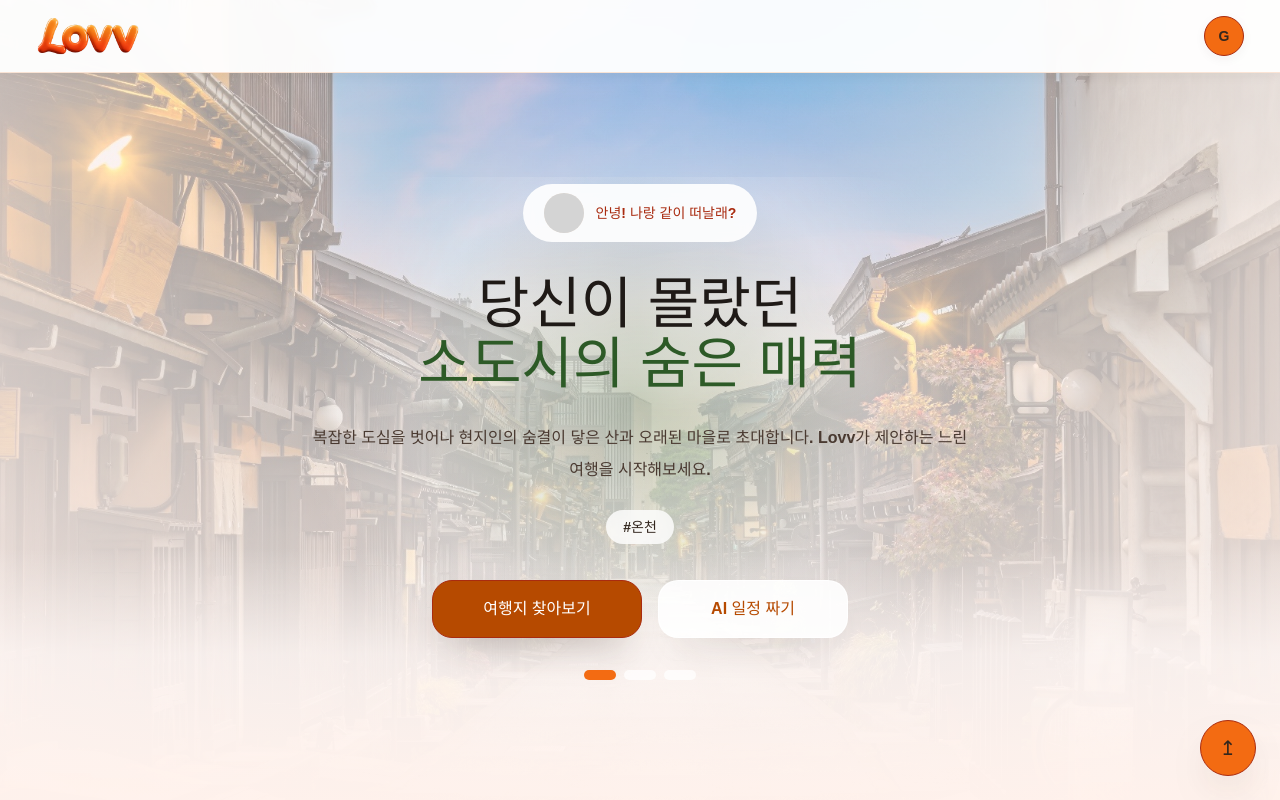
Test case: MVP main entry screen › submits a duration guide chip without storing the full chat transcript
Click the link "AI 일정 짜기".
click(753, 610)  # box [658,580,848,638]
(page scrolled)
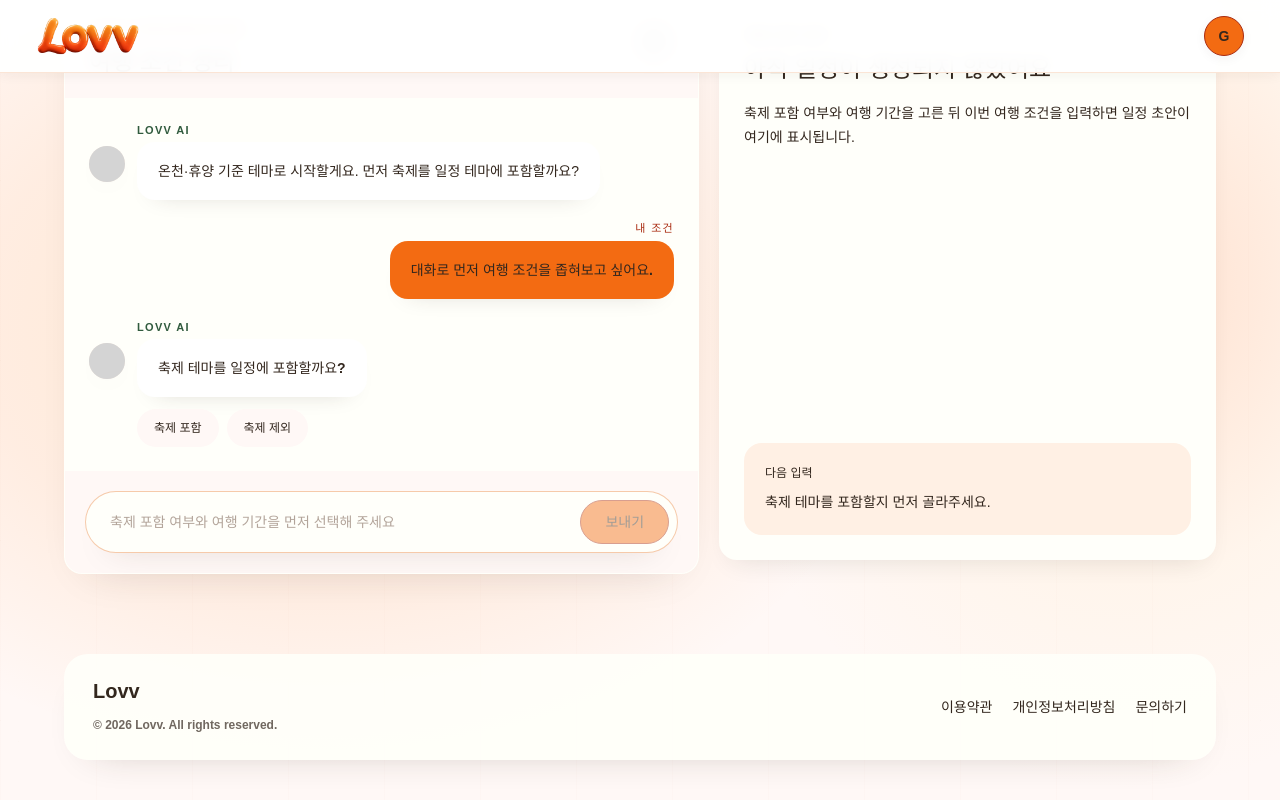
Click the button "축제 제외".
click(267, 428)  # box [226,409,308,447]
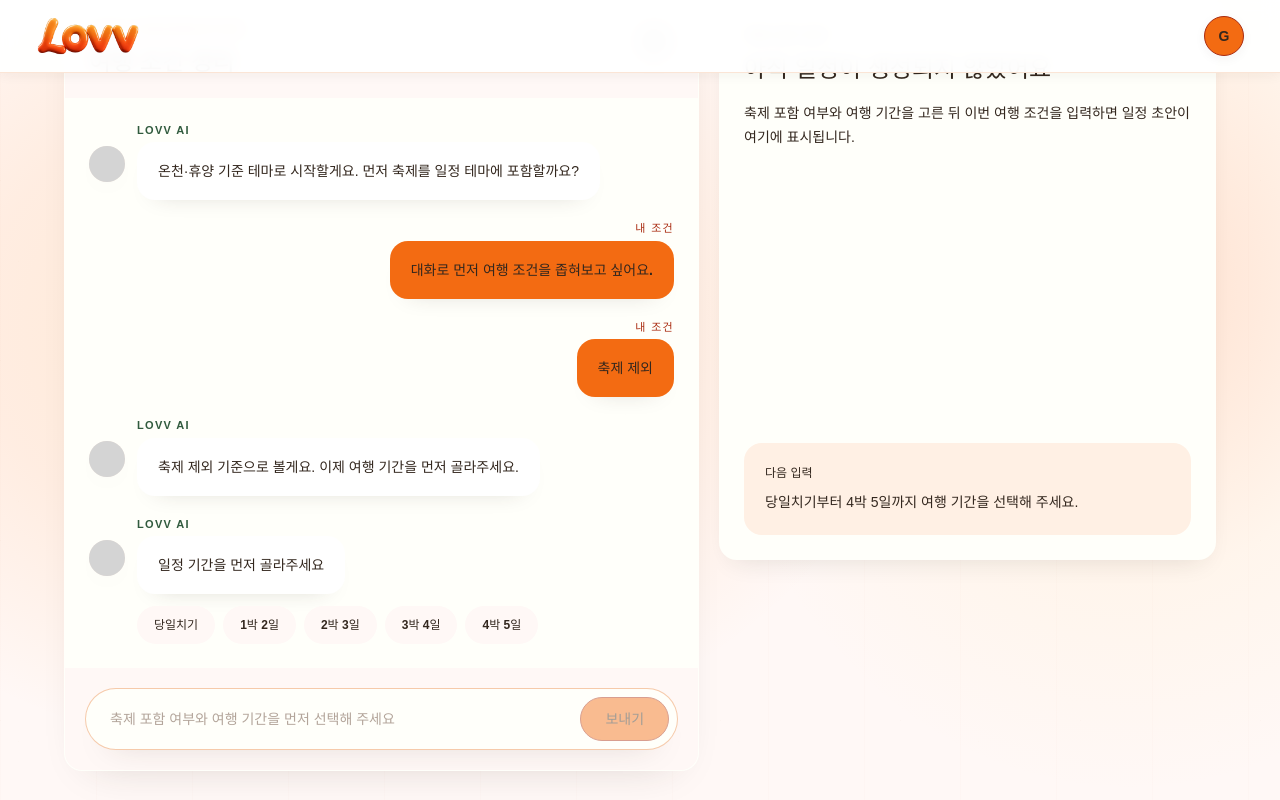
Click the button "1박 2일".
click(260, 625)  # box [223,606,296,644]
(page scrolled)
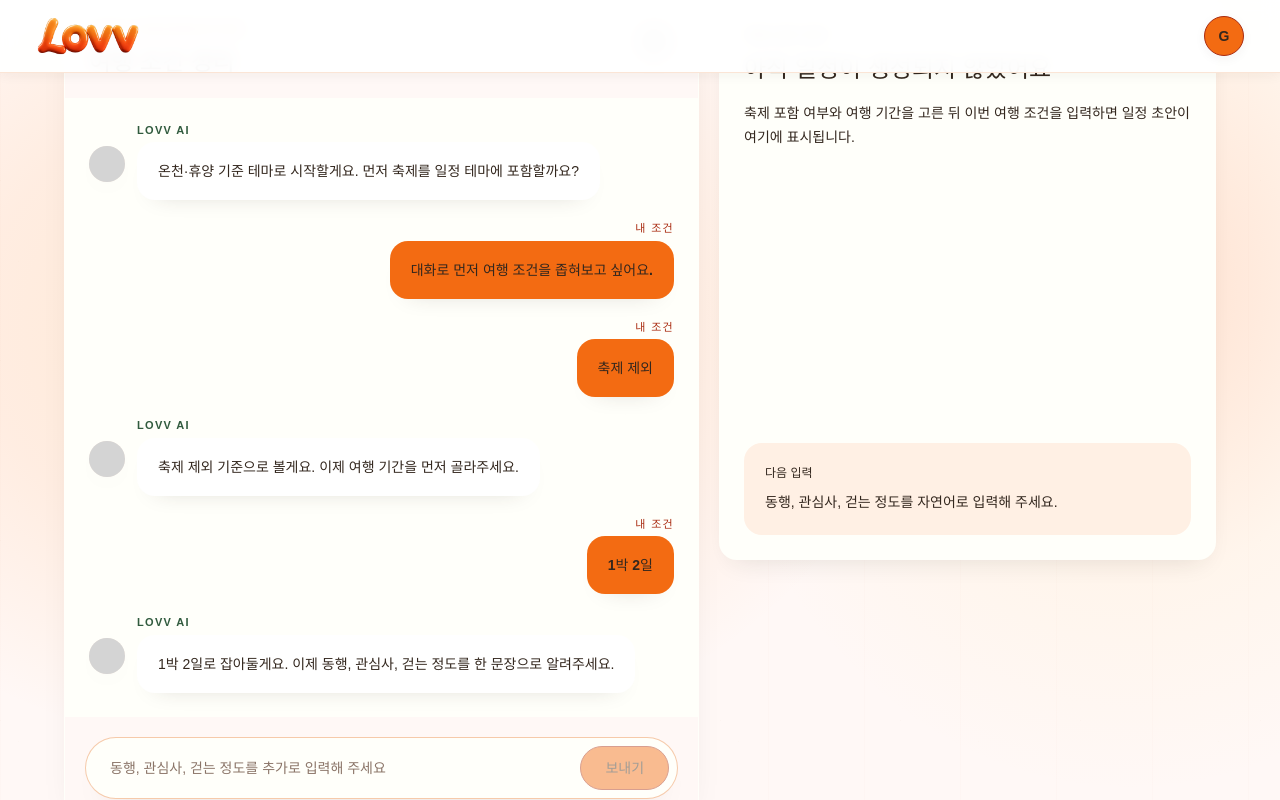
Expected: the heading "온천·휴양 1박 2일 초안" is not shown
Now the text "1박 2일" is shown, box [587,536,674,594]
Now the text "일정 기간을 먼저 골라주세요" is gone
Type "온천 숙소에서 천천히 쉬고 싶어요" into the field named "여행 조건 입력".
click(331, 768); type("온천 숙소에서 천천히 쉬고 싶어요")  # box [94,746,568,790]
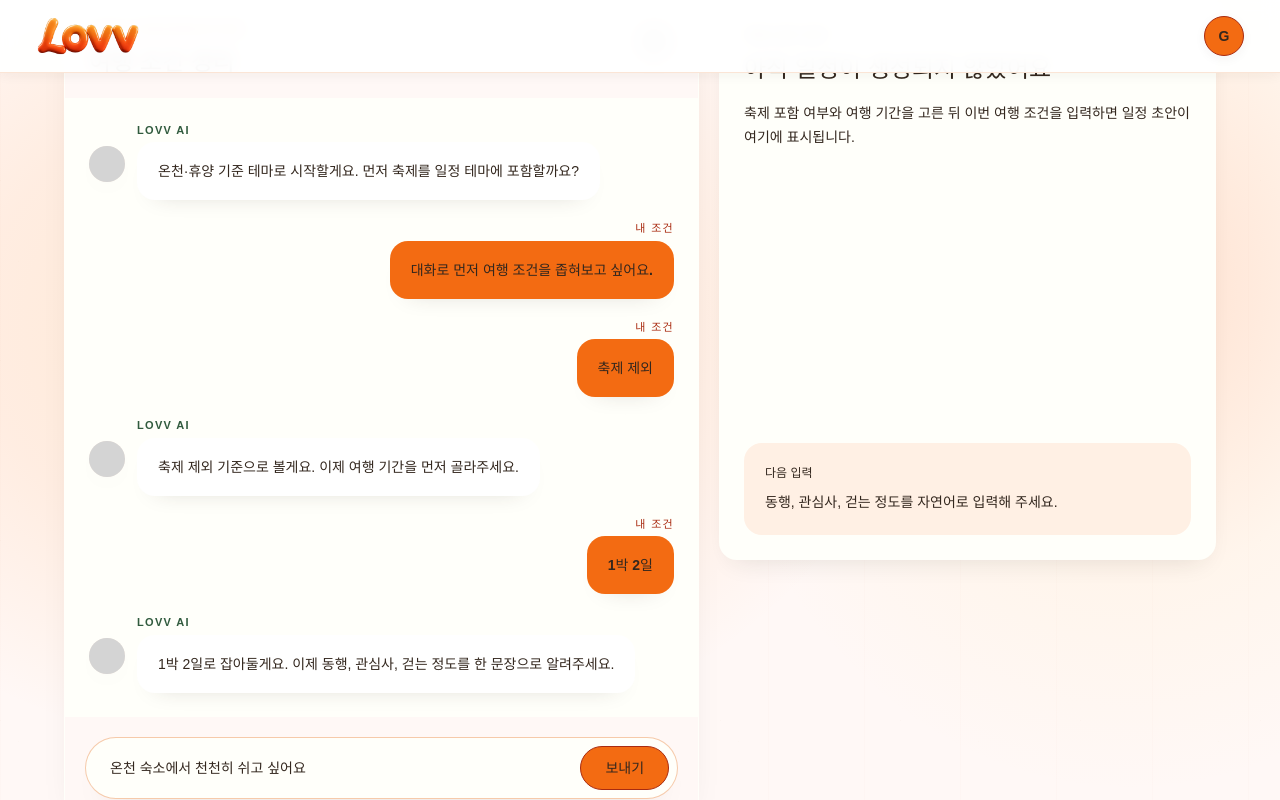
Click the button with aria-label "메시지 보내기".
click(625, 768)  # box [580,746,669,790]
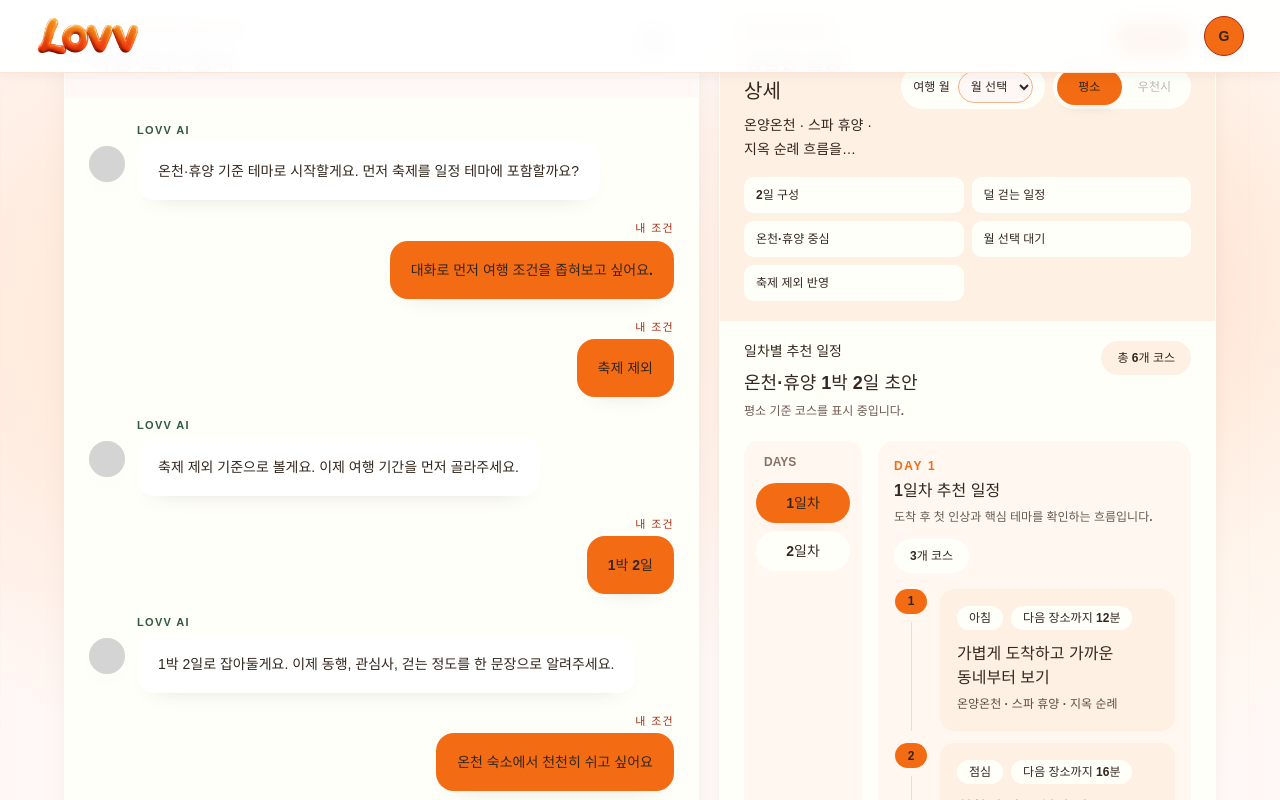
Now the heading "온천·휴양 1박 2일 초안" is shown, box [744,373,918,393]
